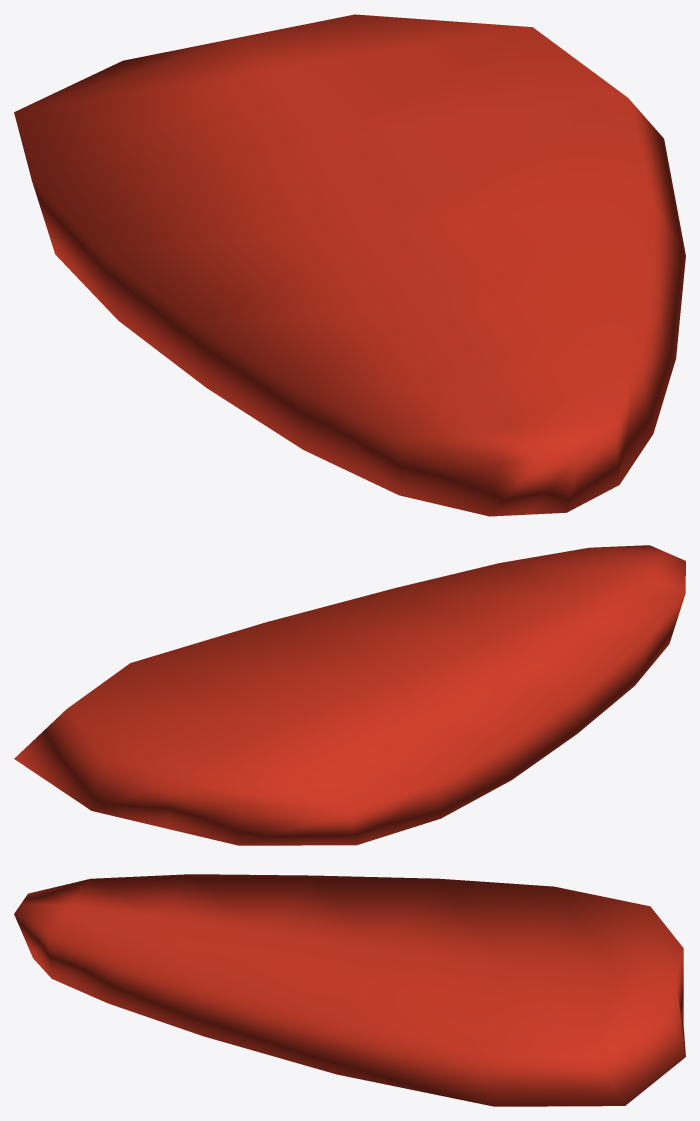
Rendered from ChickenSlice.obj.
3 renders of one model, top to bottom at view 1: azimuth 30°, elevation 25°; view 2: azimuth 150°, elevation 25°; view 3: azimuth 270°, elevation 25°, orthographic. The views are drawn at different scales.
Visible parts, largest first — view 1: Cube.001; view 2: Cube.001; view 3: Cube.001.
Boxes of the visible parts, x1,y1,x2,y2 form: Cube.001: (14,14,685,516); Cube.001: (14,545,685,845); Cube.001: (14,874,685,1106).
Bounding box in the file's own units: 1.97 × 0.2556 × 2.98.
